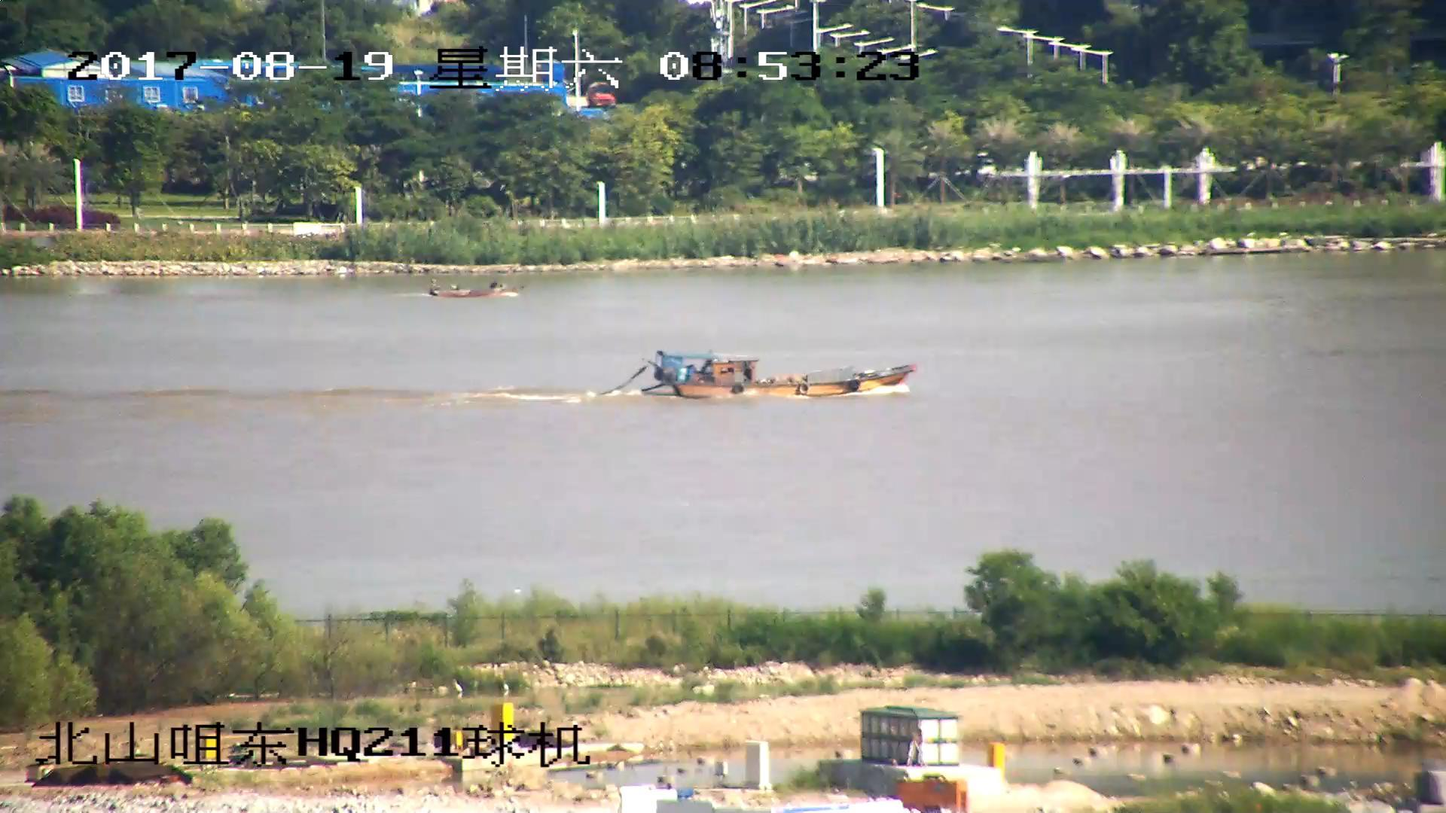fishing boat: (649, 347, 917, 400), (426, 278, 523, 303)
